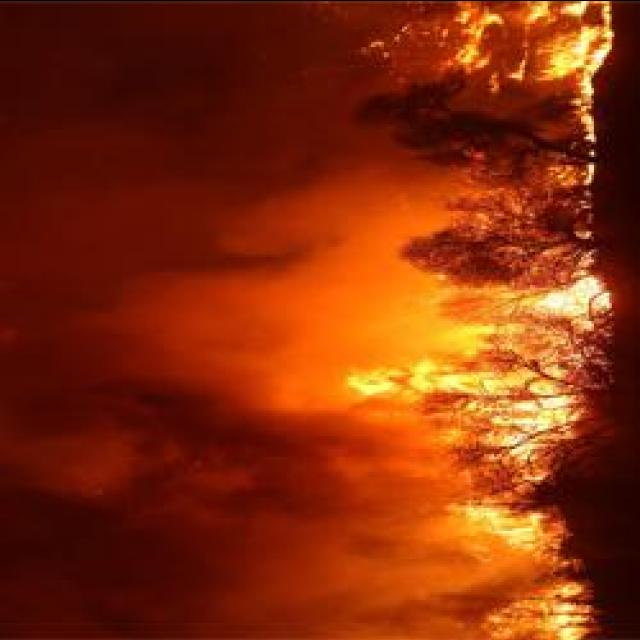fire: (346, 284, 602, 456), (544, 5, 614, 87), (562, 14, 608, 134), (511, 586, 595, 640), (507, 276, 611, 318), (443, 502, 541, 546), (448, 0, 500, 69)
smoke: (188, 159, 412, 360), (243, 510, 489, 622), (87, 268, 249, 392)
